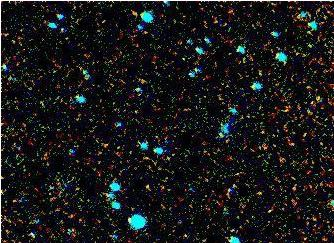star: (208, 114, 238, 144)
